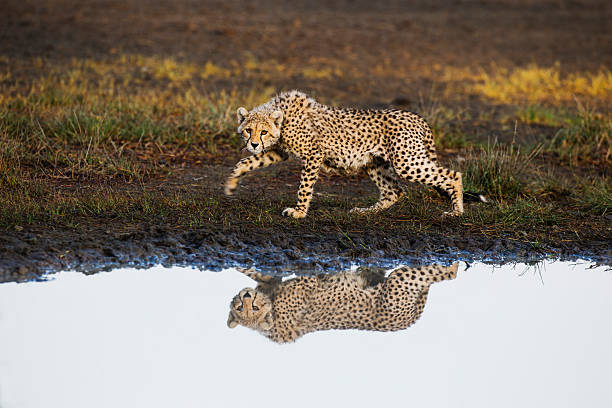cheetah: (233, 99, 290, 151)
